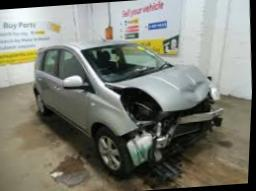Bonnet: (107, 61, 218, 117)
Bumper: (128, 104, 226, 171)
